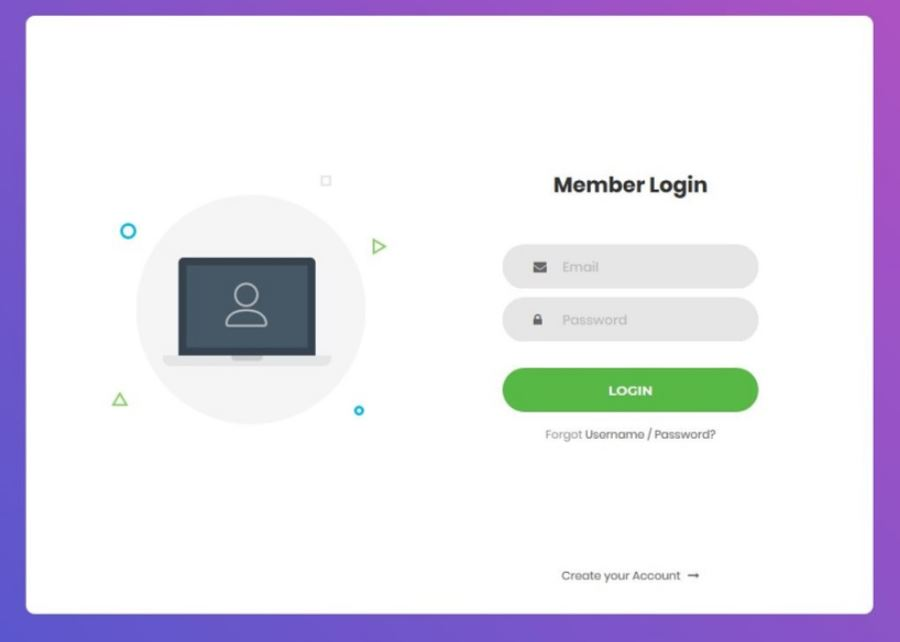button: (496, 361, 763, 424)
textbox: (489, 237, 770, 294), (488, 294, 767, 349)
